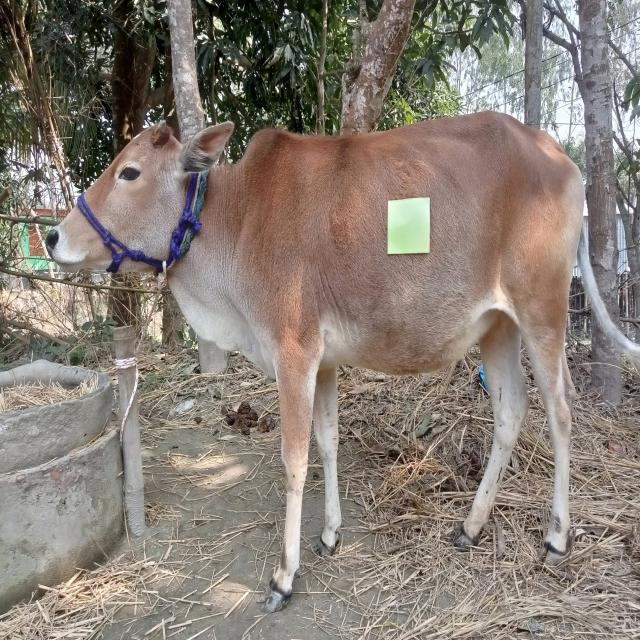badan_sapi: (276, 131, 545, 383)
sapi: (46, 112, 595, 610)
